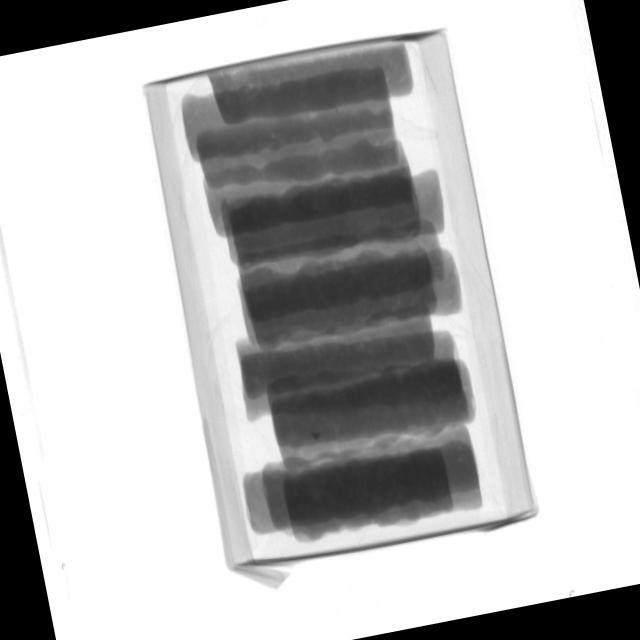ym: (312, 430, 321, 439)
